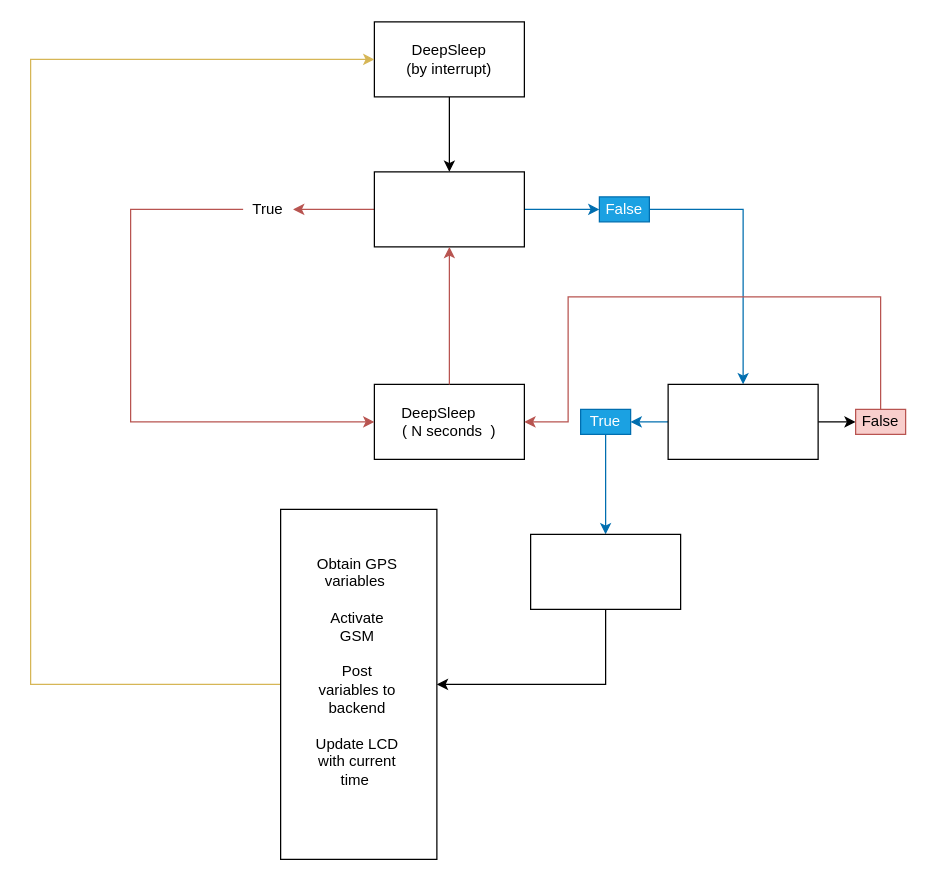
This 928x881 diagram has some shape labels left out. Each missing label, with the centre of its shape:
Motion Detected?: (448,209)
Vehicle parked: (605,571)
Verify consistent stationary state for N Seconds: (742,421)
